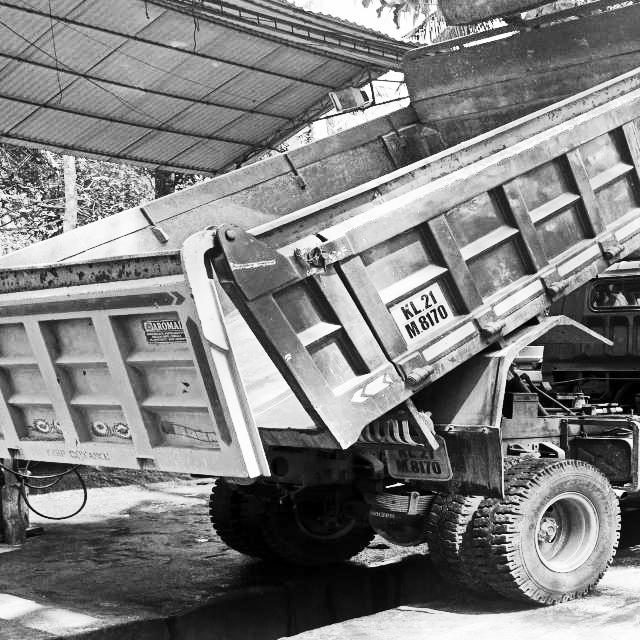HCV: (0, 43, 640, 594)
